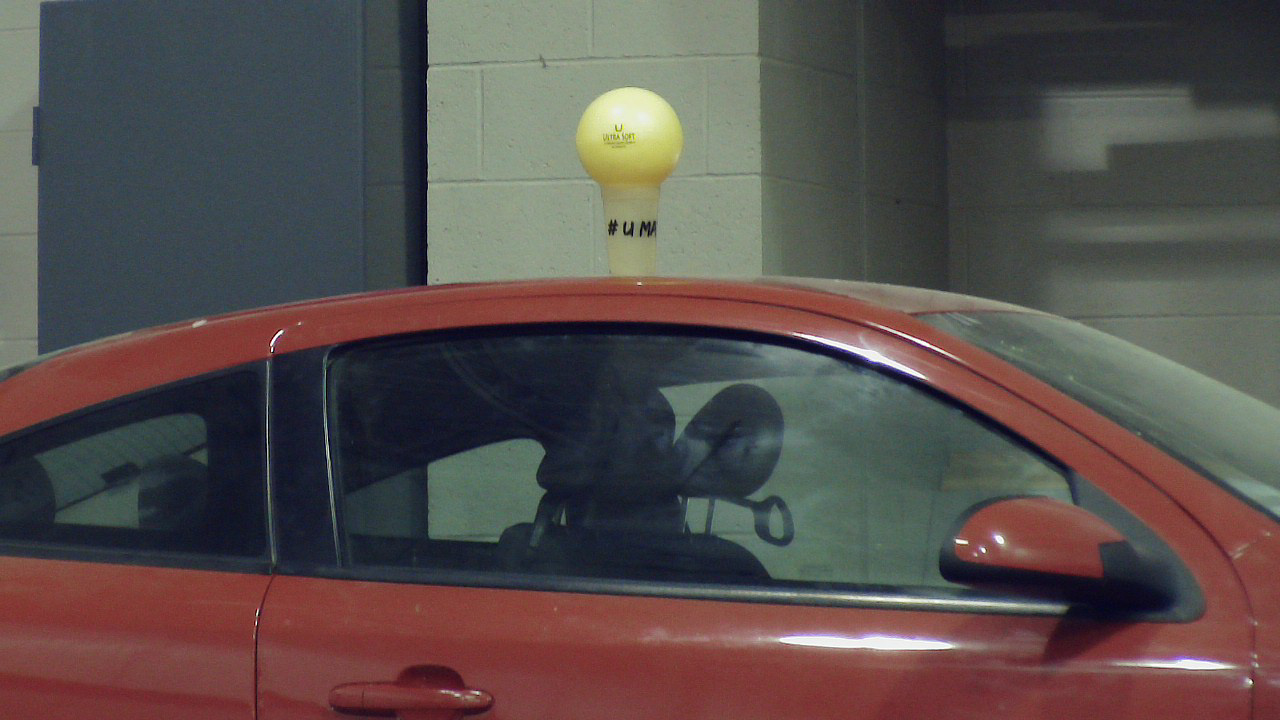yellowBall: (578, 89, 691, 193)
